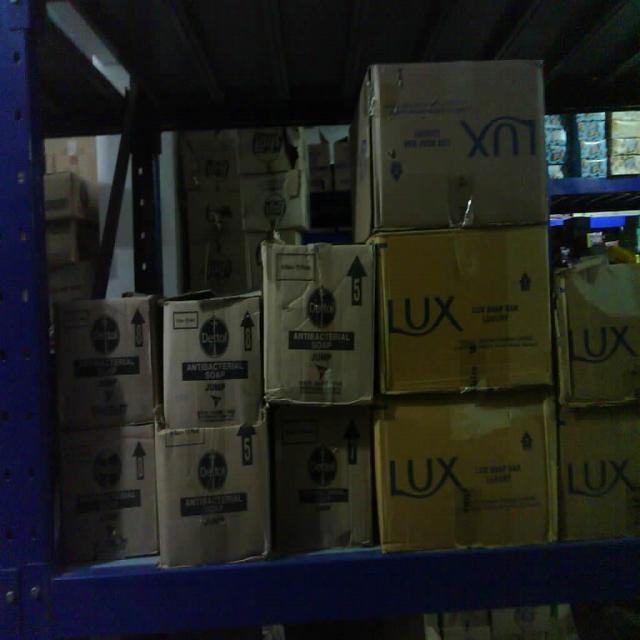cardboxes: (373, 58, 547, 226), (378, 232, 556, 390), (377, 394, 557, 548), (262, 242, 374, 404), (160, 425, 268, 568), (268, 408, 376, 550), (56, 424, 159, 560), (160, 294, 264, 426), (52, 294, 156, 424), (562, 264, 640, 408), (559, 422, 640, 542)
